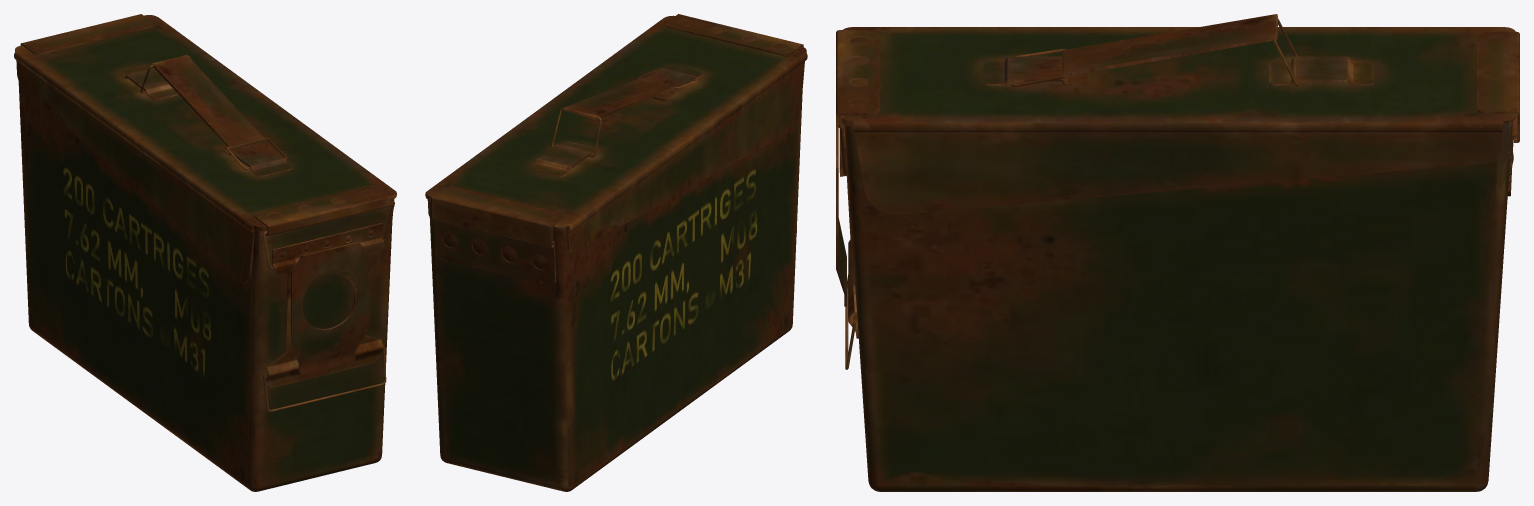
Rendered from ammo_box.gltf.
3 views of the same model, side by side, from view 1: azimuth 30°, elevation 25°; view 2: azimuth 150°, elevation 25°; view 3: azimuth 270°, elevation 25° (orthographic). The views are drawn at different scales.
Visible parts, largest first — view 1: ammo_box, ammo_box_handle, ammo_box_latch; view 2: ammo_box, ammo_box_handle; view 3: ammo_box, ammo_box_handle.
Boxes of the visible parts, box(x1,y1,x2,y2) form: ammo_box: box(14, 14, 396, 491); ammo_box_handle: box(152, 54, 265, 149); ammo_box_latch: box(263, 345, 386, 411); ammo_box: box(425, 14, 807, 491); ammo_box_handle: box(563, 78, 675, 119); ammo_box: box(836, 27, 1519, 491); ammo_box_handle: box(1062, 14, 1277, 76).
Bounding box in the file's own units: 0.0866 × 0.1775 × 0.2579.
1 material, 1 textured.
